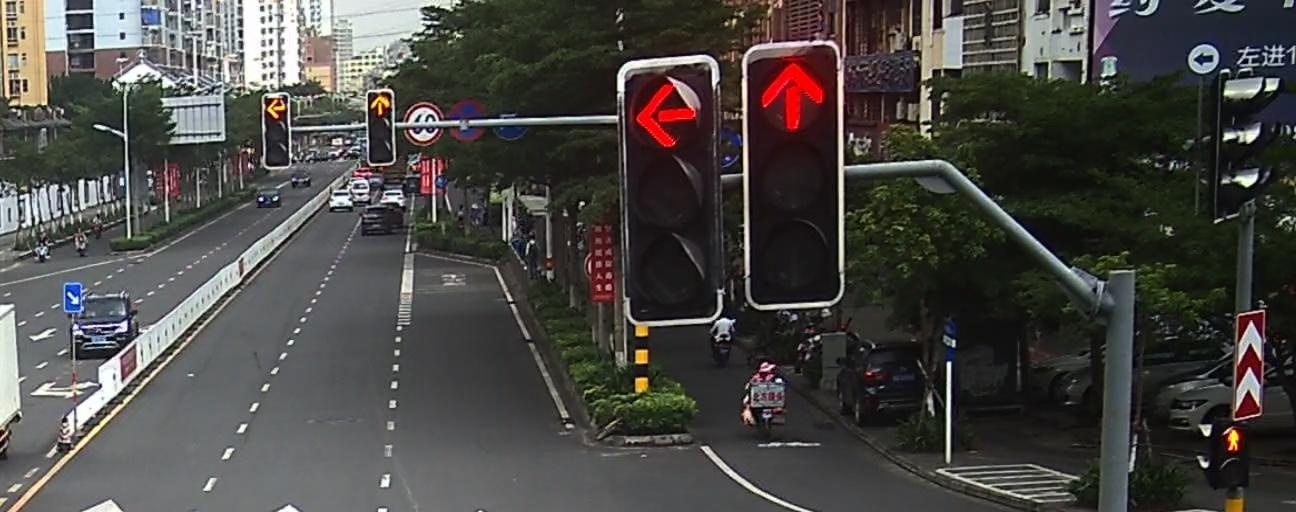redleft: (630, 79, 699, 153), (262, 96, 287, 121)
redpeople: (1218, 424, 1245, 453)
redstraight: (753, 59, 828, 133), (368, 93, 393, 118)
